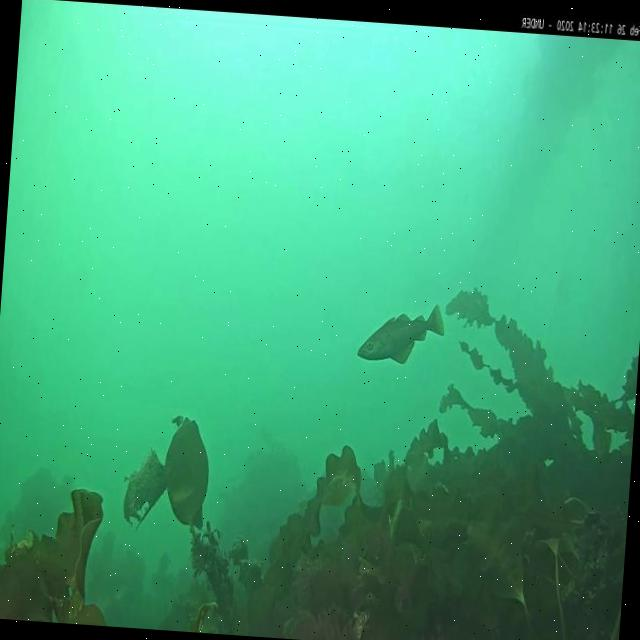fish: (357, 298, 443, 368)
